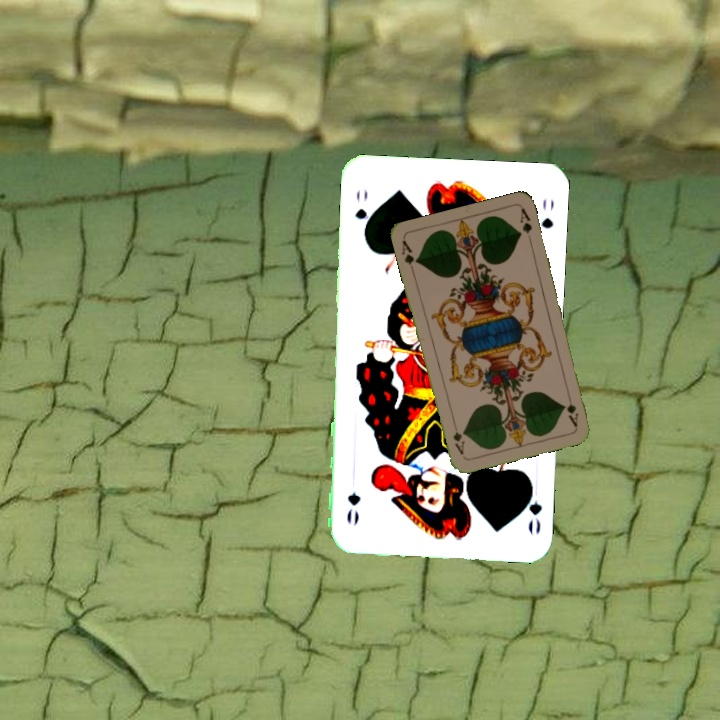GA: (398, 236, 421, 276), (563, 389, 581, 429)
GO: (518, 477, 545, 537), (351, 186, 373, 239)
